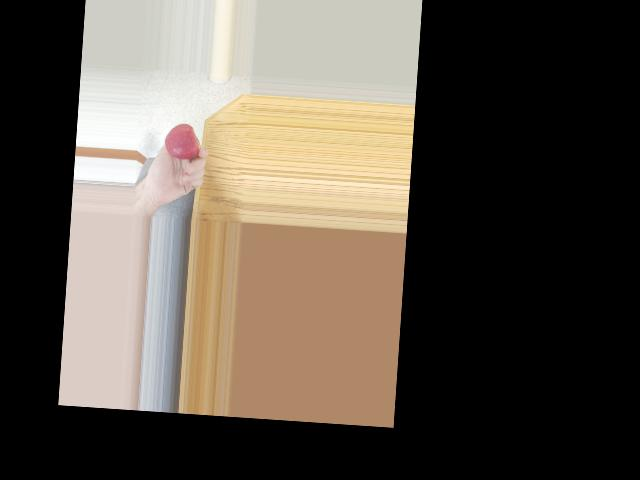apple: (163, 121, 202, 162)
